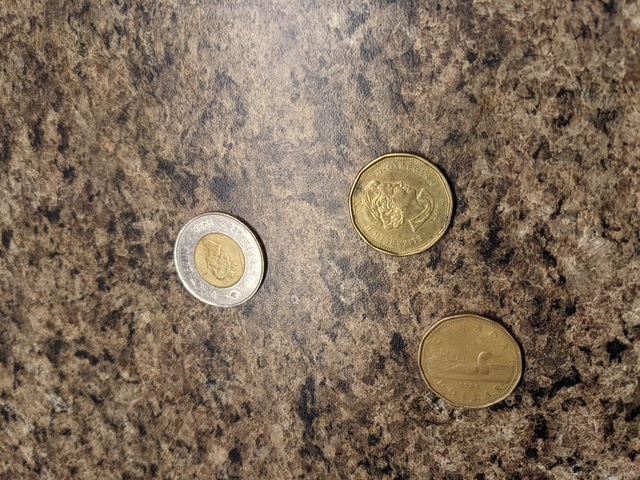loonie: (407, 292, 523, 417), (341, 152, 457, 271)
twonie: (160, 205, 275, 306)
